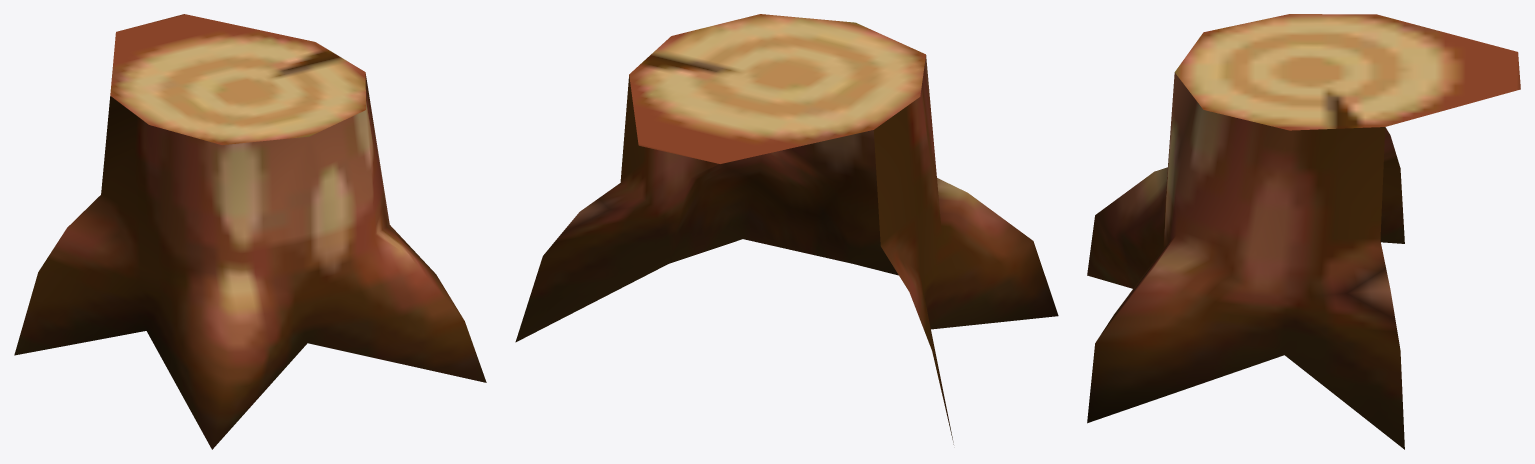
The model's file is fg_treeB_4_b.dae.
3 views of the same model, side by side, from view 1: azimuth 30°, elevation 25°; view 2: azimuth 150°, elevation 25°; view 3: azimuth 270°, elevation 25° (orthographic). The views are drawn at different scales.
Visible parts, largest first — view 1: fg_treeB_4_b; view 2: fg_treeB_4_b; view 3: fg_treeB_4_b.
Boxes of the visible parts, box(x1,y1,x2,y2) form: fg_treeB_4_b: box(14, 14, 486, 449); fg_treeB_4_b: box(515, 14, 1058, 444); fg_treeB_4_b: box(1087, 14, 1520, 449).
Bounding box in the file's own units: 31.18 × 19.55 × 27.75.
1 material, 1 textured.
